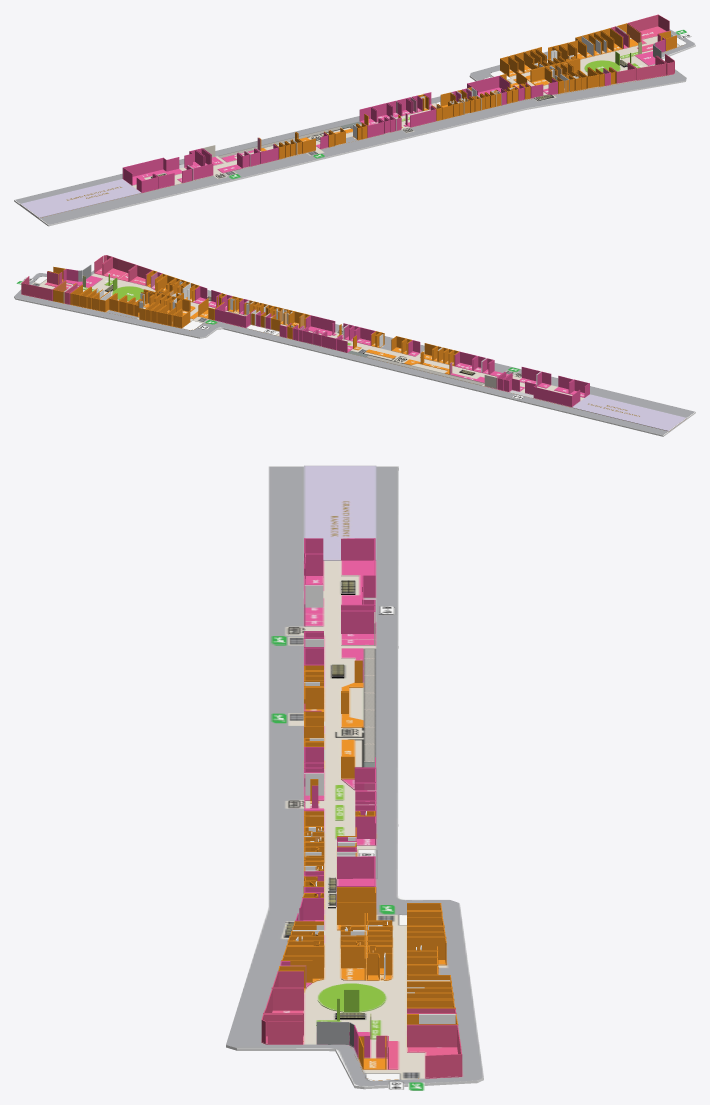
Rendered from floor-3.glb.
3 renders of one model, top to bottom at view 1: azimuth 30°, elevation 25°; view 2: azimuth 150°, elevation 25°; view 3: azimuth 270°, elevation 25°, orthographic. The views are drawn at different scales.
Parts seen in each view (by area): view 1: 3_Floor_OriginalSigns, 3_VisibleWalkways_OriginalSigns, 3_Hotel_OriginalSigns, 3_Floor, 3_Interior_OriginalSigns, 3_Partition.040; view 2: 3_Floor_OriginalSigns, 3_VisibleWalkways_OriginalSigns, 3_Hotel_OriginalSigns, 3_Interior_OriginalSigns, 3_Floor, 3_Partition.040, 3_Partition.058, 3_Shop_Green_001_OriginalSigns; view 3: 3_Floor_OriginalSigns, 3_VisibleWalkways_OriginalSigns, 3_Hotel_OriginalSigns, 3_Interior_OriginalSigns, 3_Shop_Green_001_OriginalSigns, 3_Partition.002.
Boxes of the visible parts, x1=… form: 3_Floor_OriginalSigns: x1=14, y1=29, x2=695, y2=224; 3_VisibleWalkways_OriginalSigns: x1=133, y1=33, x2=680, y2=188; 3_Hotel_OriginalSigns: x1=20, y1=179, x2=141, y2=217; 3_Floor: x1=14, y1=45, x2=695, y2=226; 3_Interior_OriginalSigns: x1=146, y1=34, x2=685, y2=188; 3_Partition.040: x1=129, y1=157, x2=163, y2=176; 3_Floor_OriginalSigns: x1=14, y1=270, x2=695, y2=435; 3_VisibleWalkways_OriginalSigns: x1=31, y1=273, x2=583, y2=400; 3_Hotel_OriginalSigns: x1=572, y1=394, x2=686, y2=430; 3_Interior_OriginalSigns: x1=32, y1=274, x2=571, y2=407; 3_Floor: x1=14, y1=297, x2=695, y2=436; 3_Partition.040: x1=534, y1=387, x2=565, y2=405; 3_Partition.058: x1=215, y1=309, x2=246, y2=327; 3_Shop_Green_001_OriginalSigns: x1=112, y1=286, x2=143, y2=300; 3_Floor_OriginalSigns: x1=226, y1=466, x2=483, y2=1086; 3_VisibleWalkways_OriginalSigns: x1=281, y1=561, x2=446, y2=1079; 3_Hotel_OriginalSigns: x1=304, y1=465, x2=376, y2=559; 3_Interior_OriginalSigns: x1=303, y1=560, x2=448, y2=1080; 3_Shop_Green_001_OriginalSigns: x1=317, y1=983, x2=385, y2=1011; 3_Partition.002: x1=407, y1=1025, x2=458, y2=1047.
Bounding box in the file's own units: 184 × 3.47 × 32.1.
699 materials, 1 textured.
